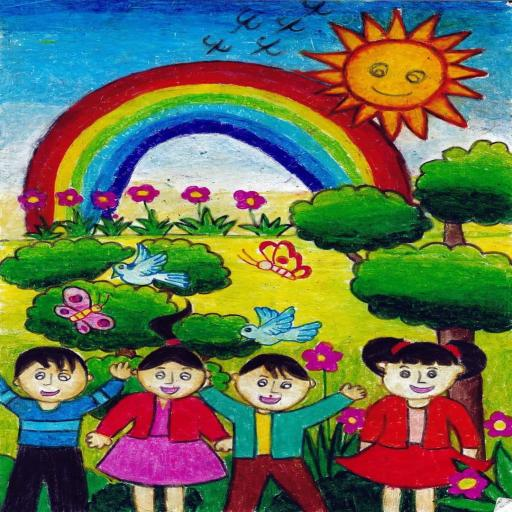person: (326, 336, 494, 512), (202, 346, 360, 510), (0, 325, 137, 511), (81, 339, 228, 510)
